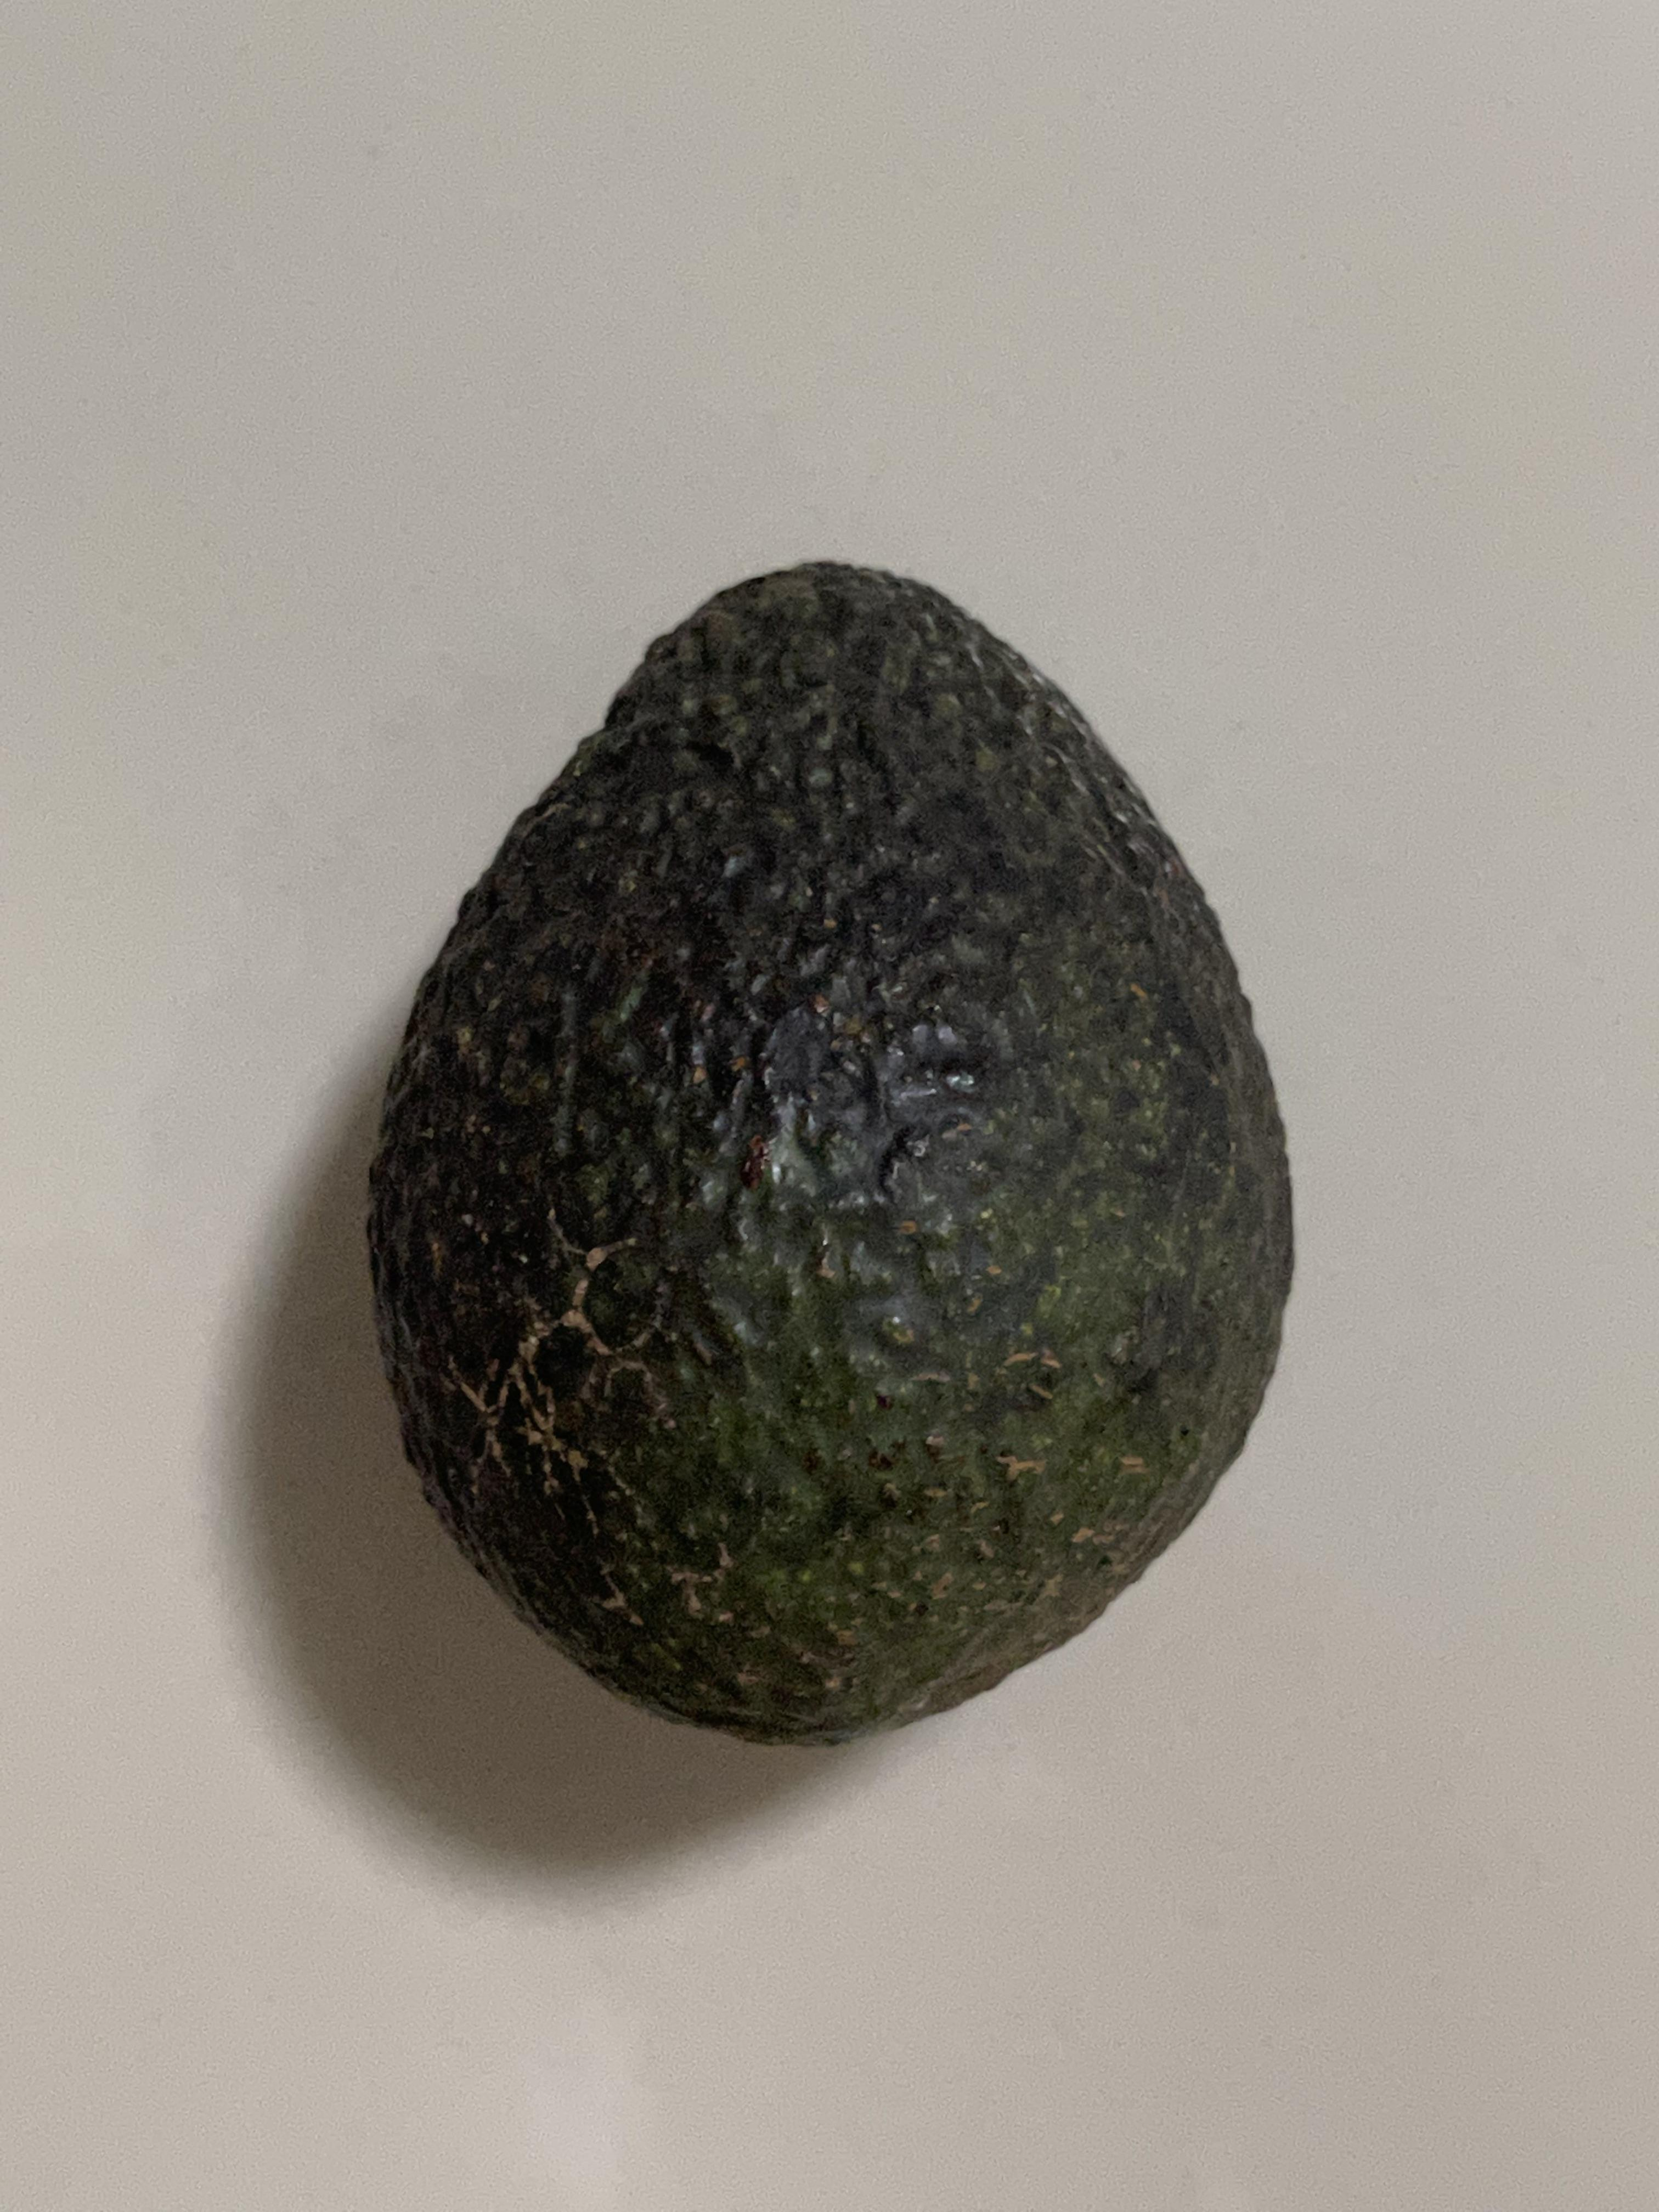Level1: (340, 516, 1335, 1782)
